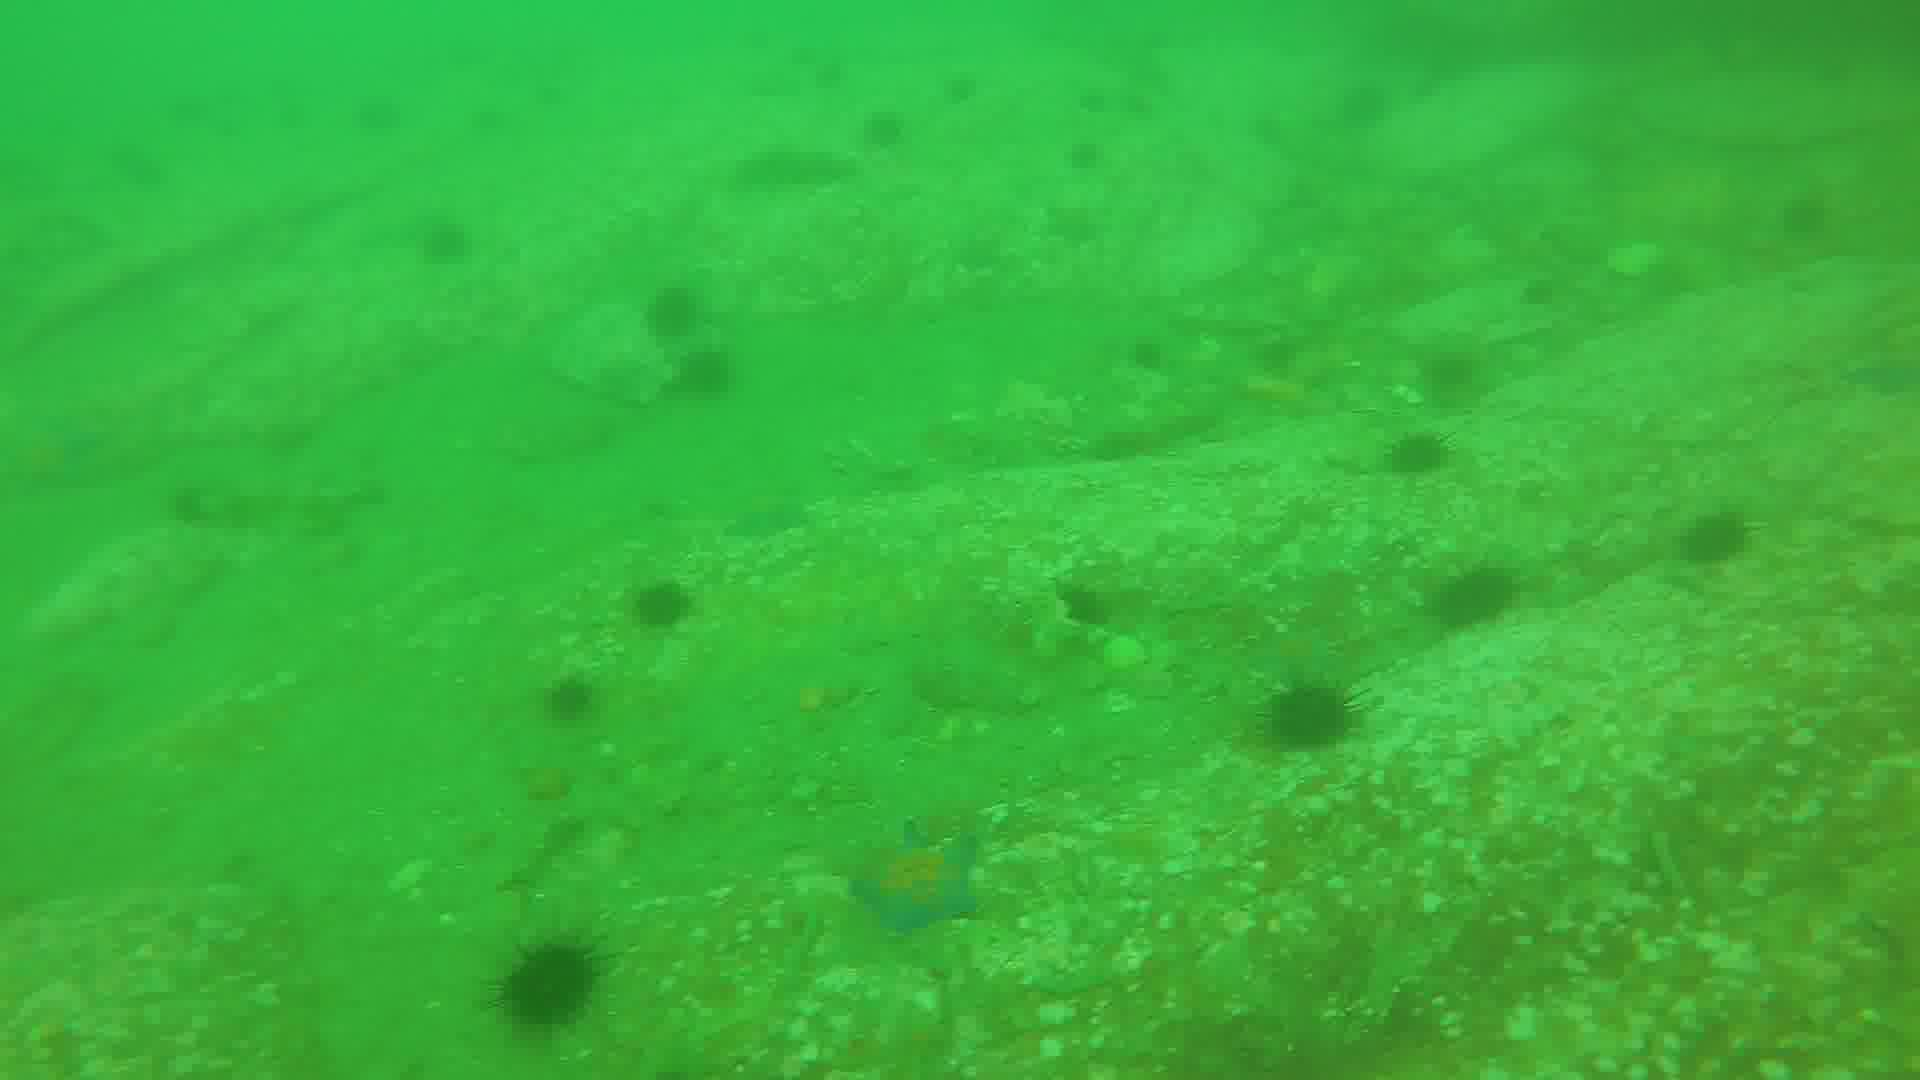echinus: (502, 928, 603, 1033), (1262, 679, 1361, 752), (1435, 568, 1524, 632), (1681, 505, 1750, 571), (1389, 425, 1455, 484), (676, 342, 741, 396), (645, 286, 700, 338), (645, 582, 702, 632), (545, 676, 603, 719), (873, 100, 913, 156), (1068, 136, 1116, 178), (1126, 84, 1160, 124), (942, 70, 982, 103)
starfish: (853, 815, 981, 935), (729, 495, 814, 542)
